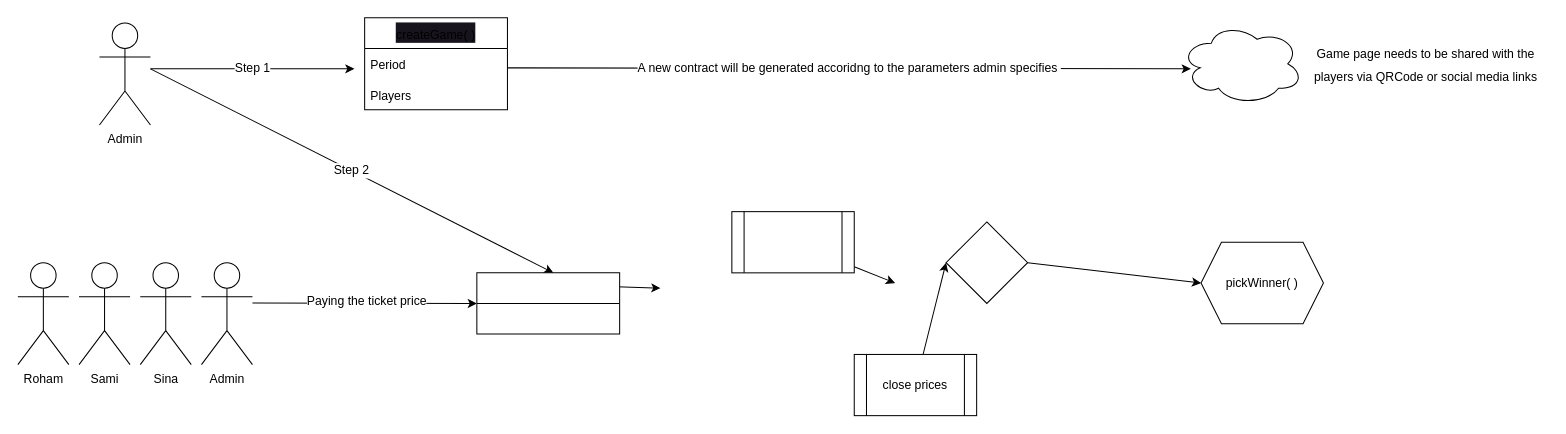
Some shapes in this 1566 by 434 pixel diagram are drawn without their labels. Here are the shapes that lost their labels. From the top down, the centre of each, then its label:
At [792,242]: "open prices".
At [986,262]: "Range".
At [548,303]: "Takepart( )".
